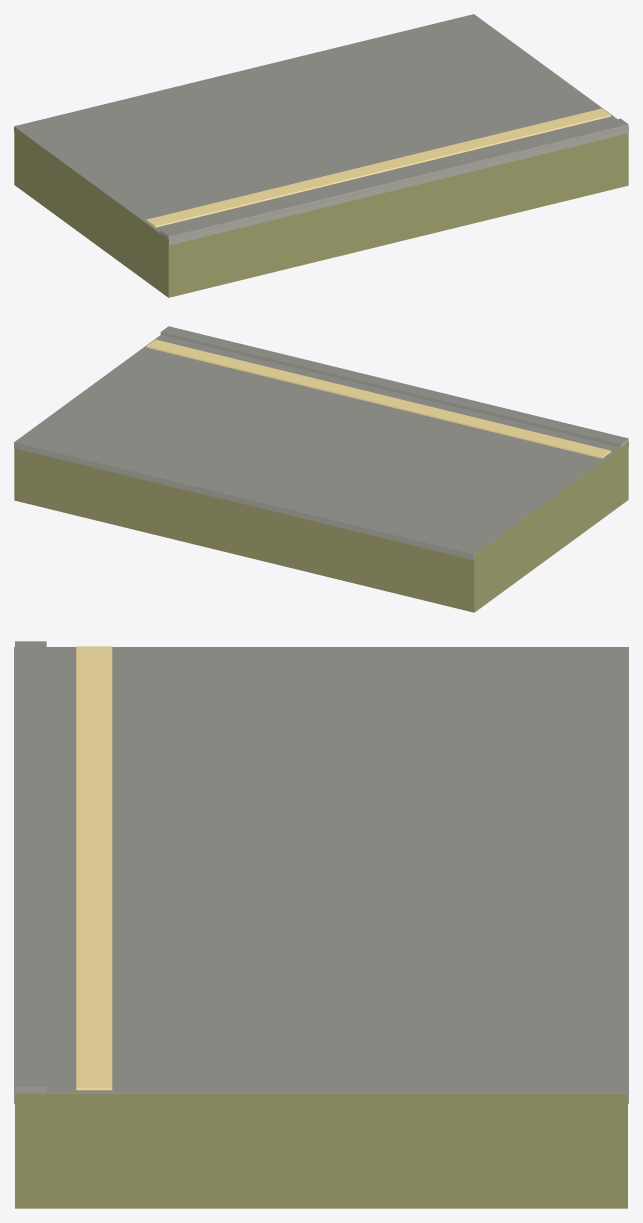
Rendered from SM_MuelleCarga_v0_LOD0.fbx.
The picture shows the model from 3 angles, top to bottom: view 1: azimuth 30°, elevation 25°; view 2: azimuth 150°, elevation 25°; view 3: azimuth 270°, elevation 25°; orthographic projection. The views are drawn at different scales.
Parts seen in each view (by area): view 1: SM_muelle_carga_v0_LOD0; view 2: SM_muelle_carga_v0_LOD0; view 3: SM_muelle_carga_v0_LOD0.
Part boxes in pixels (<box>): SM_muelle_carga_v0_LOD0: <box>14,14,628,297</box>; SM_muelle_carga_v0_LOD0: <box>14,326,628,612</box>; SM_muelle_carga_v0_LOD0: <box>14,641,628,1208</box>.
Bounding box in the file's own units: 9.98 × 1.27 × 5.82.
